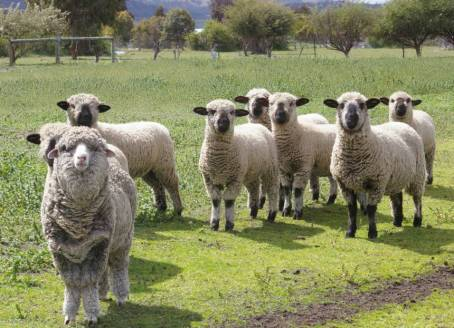sheep: (29, 127, 127, 312), (325, 92, 424, 244), (66, 98, 186, 215), (203, 98, 287, 245), (272, 91, 332, 207), (389, 89, 445, 164), (241, 86, 278, 136)
